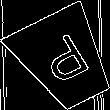P_SE: (33, 29, 96, 91)
